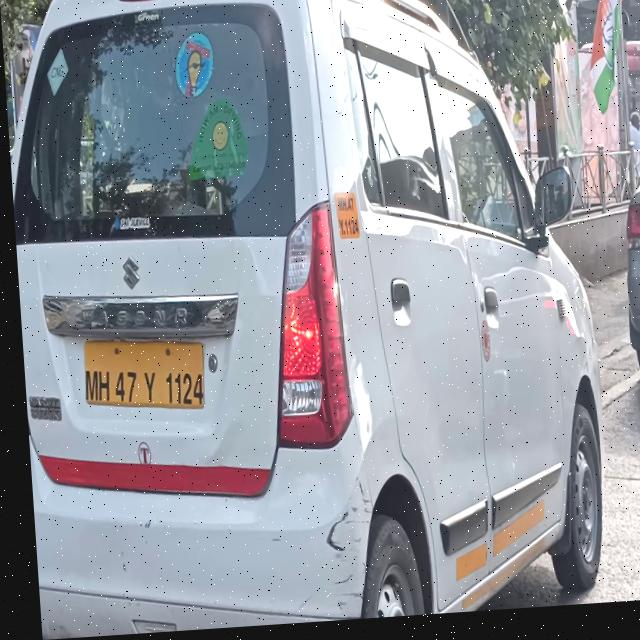plate: (76, 334, 201, 418), (327, 189, 361, 249)
